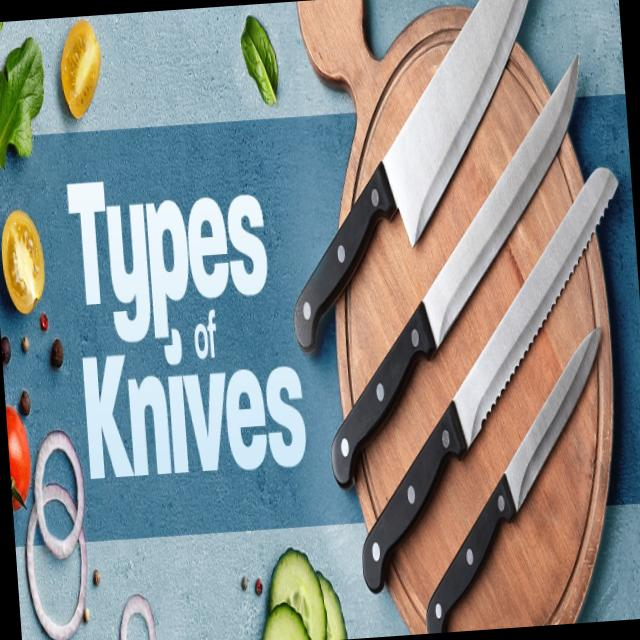Weapon: (290, 41, 612, 518), (320, 151, 640, 623)
